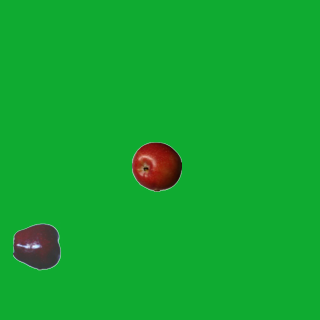Apple Braeburn: (131, 141, 181, 191)
Apple Red Delicious: (12, 221, 62, 271)
